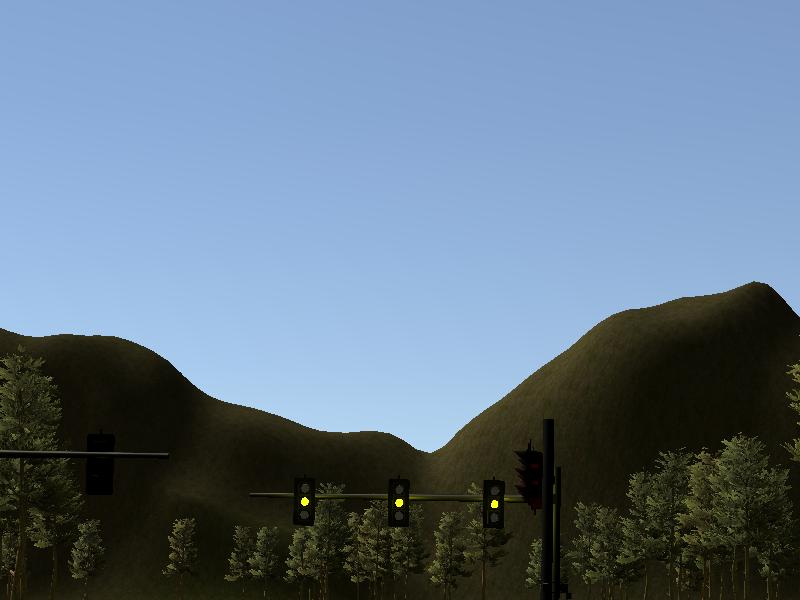Yellow: (387, 477, 410, 526), (294, 477, 316, 528), (483, 480, 505, 527)
